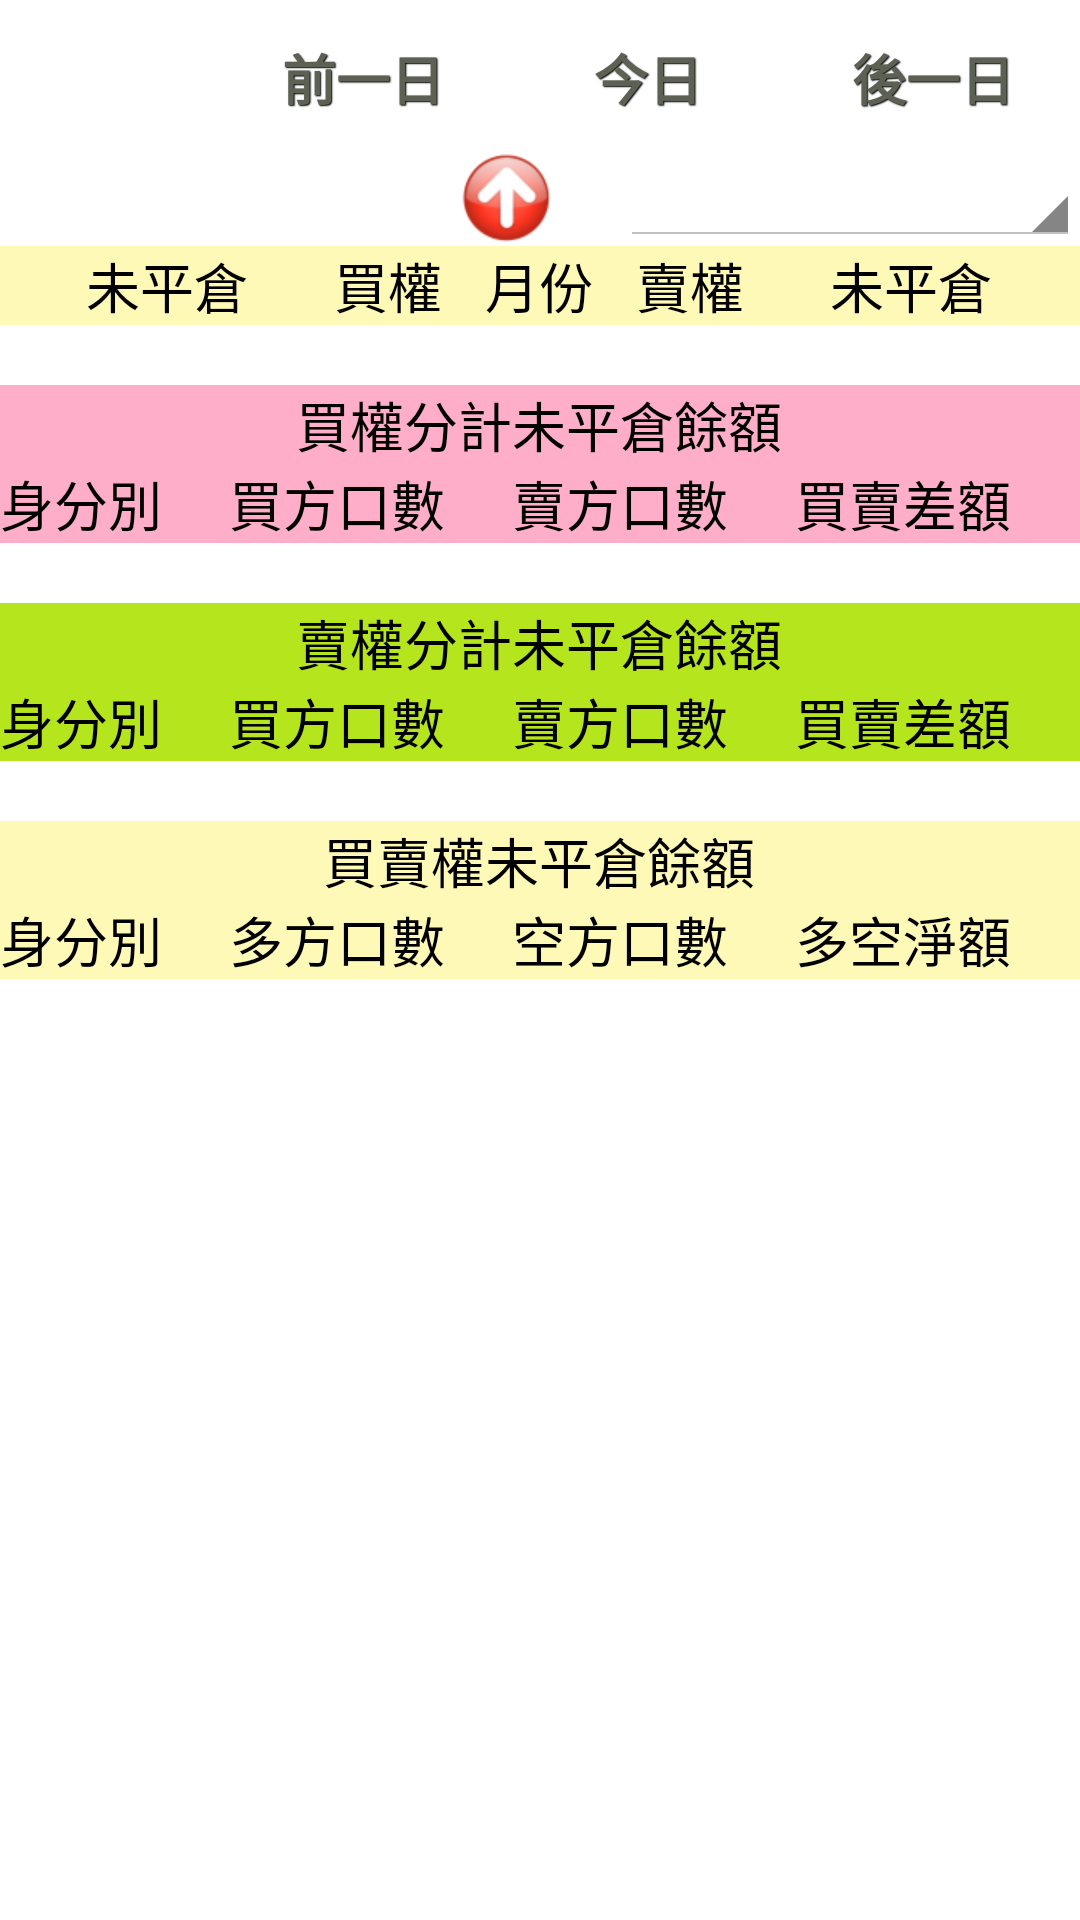

Named icons in this screenshot (1080px x 1920px) and their bounding boxes, (x1, y1, x2, y2):
arrow up: (463, 154, 550, 242)
